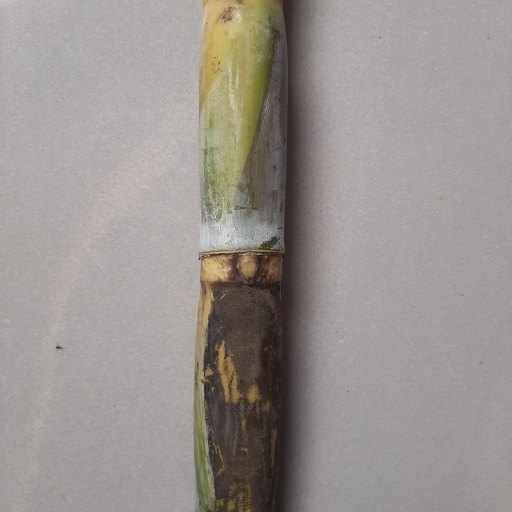Bud: (232, 253, 262, 285)
